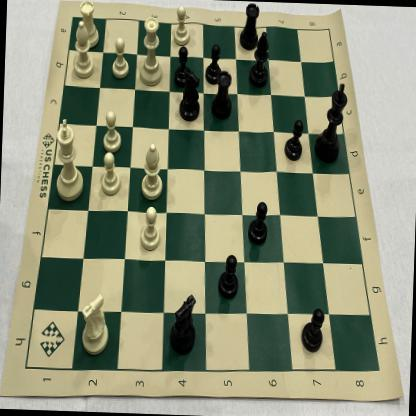bishop: (70, 18, 98, 82), (138, 140, 166, 203), (247, 28, 274, 90)
king: (312, 76, 352, 167), (51, 115, 90, 206)
knight: (76, 289, 114, 359), (165, 289, 201, 358), (176, 68, 205, 125)
pawn: (298, 300, 328, 358), (244, 196, 272, 249), (216, 250, 242, 304), (98, 148, 124, 200), (136, 203, 162, 255), (280, 115, 306, 164), (100, 108, 125, 157), (170, 2, 194, 50), (108, 35, 132, 82), (203, 39, 226, 87), (172, 40, 194, 90)
queen: (138, 12, 167, 89)
rook: (209, 68, 238, 122), (235, 1, 263, 55), (76, 0, 104, 52)
